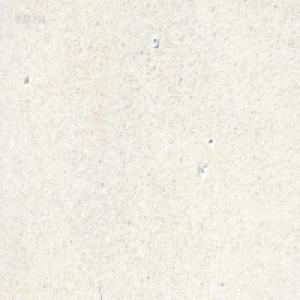Washer: (152, 37, 158, 48)
